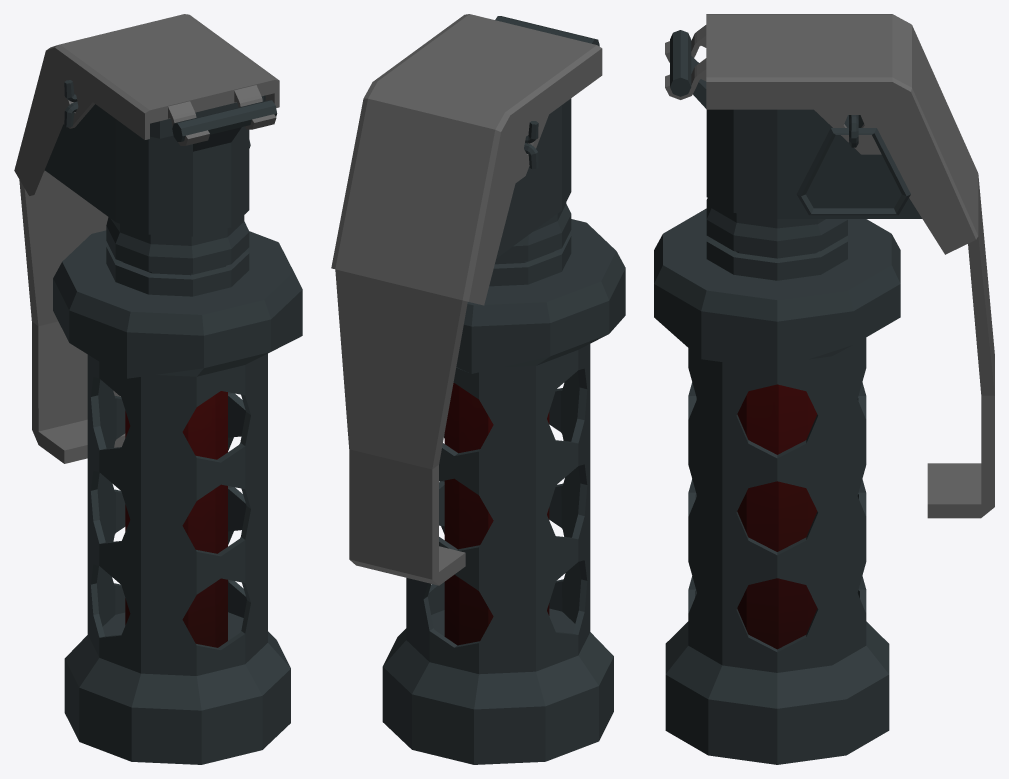
Rendered from M84V1_Rigged.fbx.
3 renders of one model, left to right at view 1: azimuth 30°, elevation 25°; view 2: azimuth 150°, elevation 25°; view 3: azimuth 270°, elevation 25°, orthographic. The views are drawn at different scales.
Parts seen in each view (by area): view 1: Grenade_M84V1, Grenade_M84V1_SafetyLever; view 2: Grenade_M84V1, Grenade_M84V1_SafetyLever; view 3: Grenade_M84V1, Grenade_M84V1_SafetyLever, Grenade_M84V1_SaftyPin_Ring.
Part boxes in pixels (bbox=[...]): Grenade_M84V1: bbox=[45, 95, 302, 764]; Grenade_M84V1_SafetyLever: bbox=[14, 14, 279, 463]; Grenade_M84V1: bbox=[382, 16, 625, 764]; Grenade_M84V1_SafetyLever: bbox=[331, 14, 602, 585]; Grenade_M84V1: bbox=[654, 30, 922, 764]; Grenade_M84V1_SafetyLever: bbox=[665, 14, 994, 518]; Grenade_M84V1_SaftyPin_Ring: bbox=[796, 128, 910, 215].
Size of the model in its own units: 4.85 by 13.82 by 6.38.
